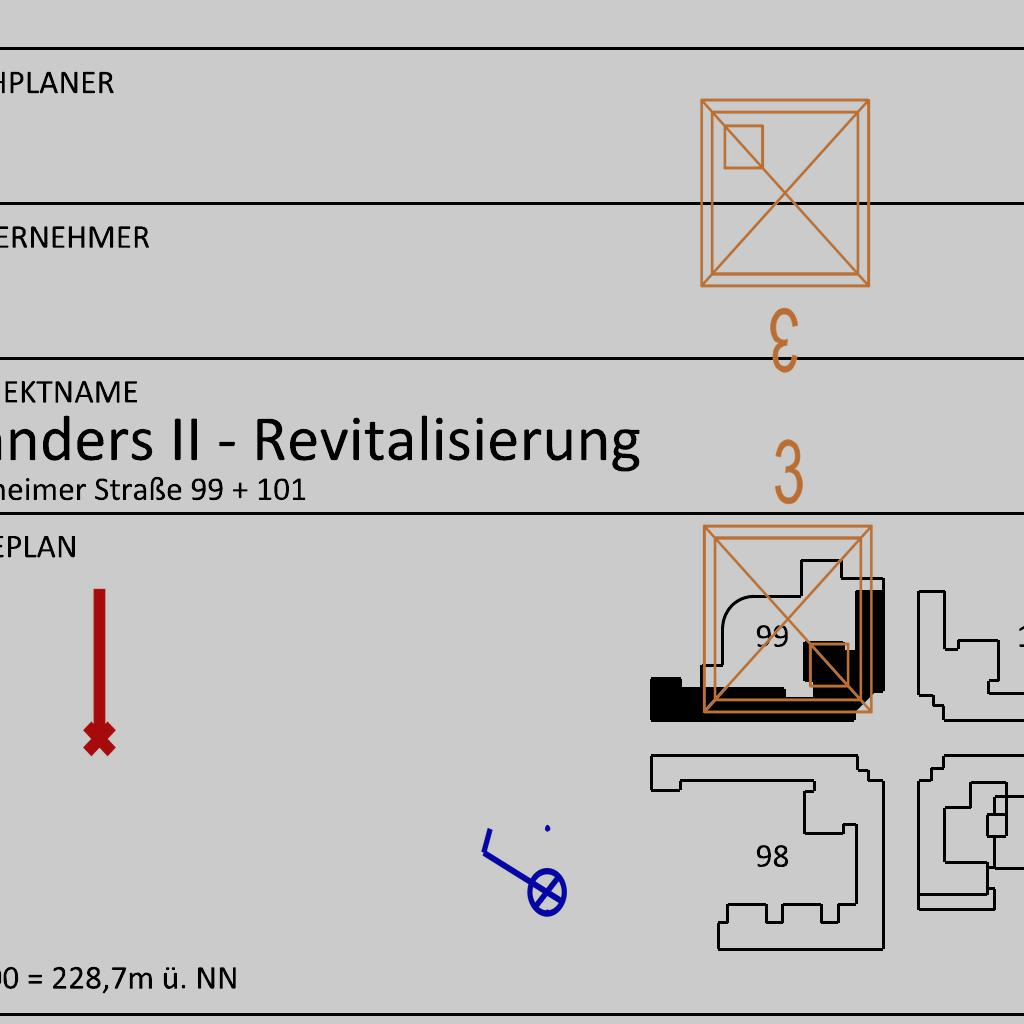ASR_Ansaugoeffnung: (74, 583, 120, 759)
Ausschalter_beleuchtet: (473, 819, 569, 931)
Einbaudownlights_LED_Konferenzraeume: (680, 428, 888, 728), (685, 84, 893, 384)
